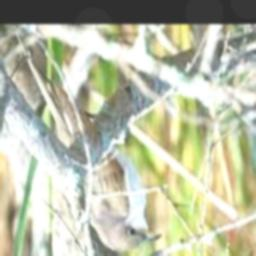Cuckoo: (35, 73, 163, 251)
